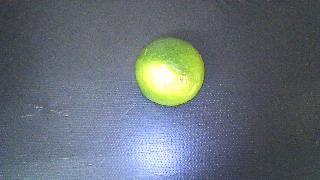EXPORTACION: (135, 37, 204, 106)
